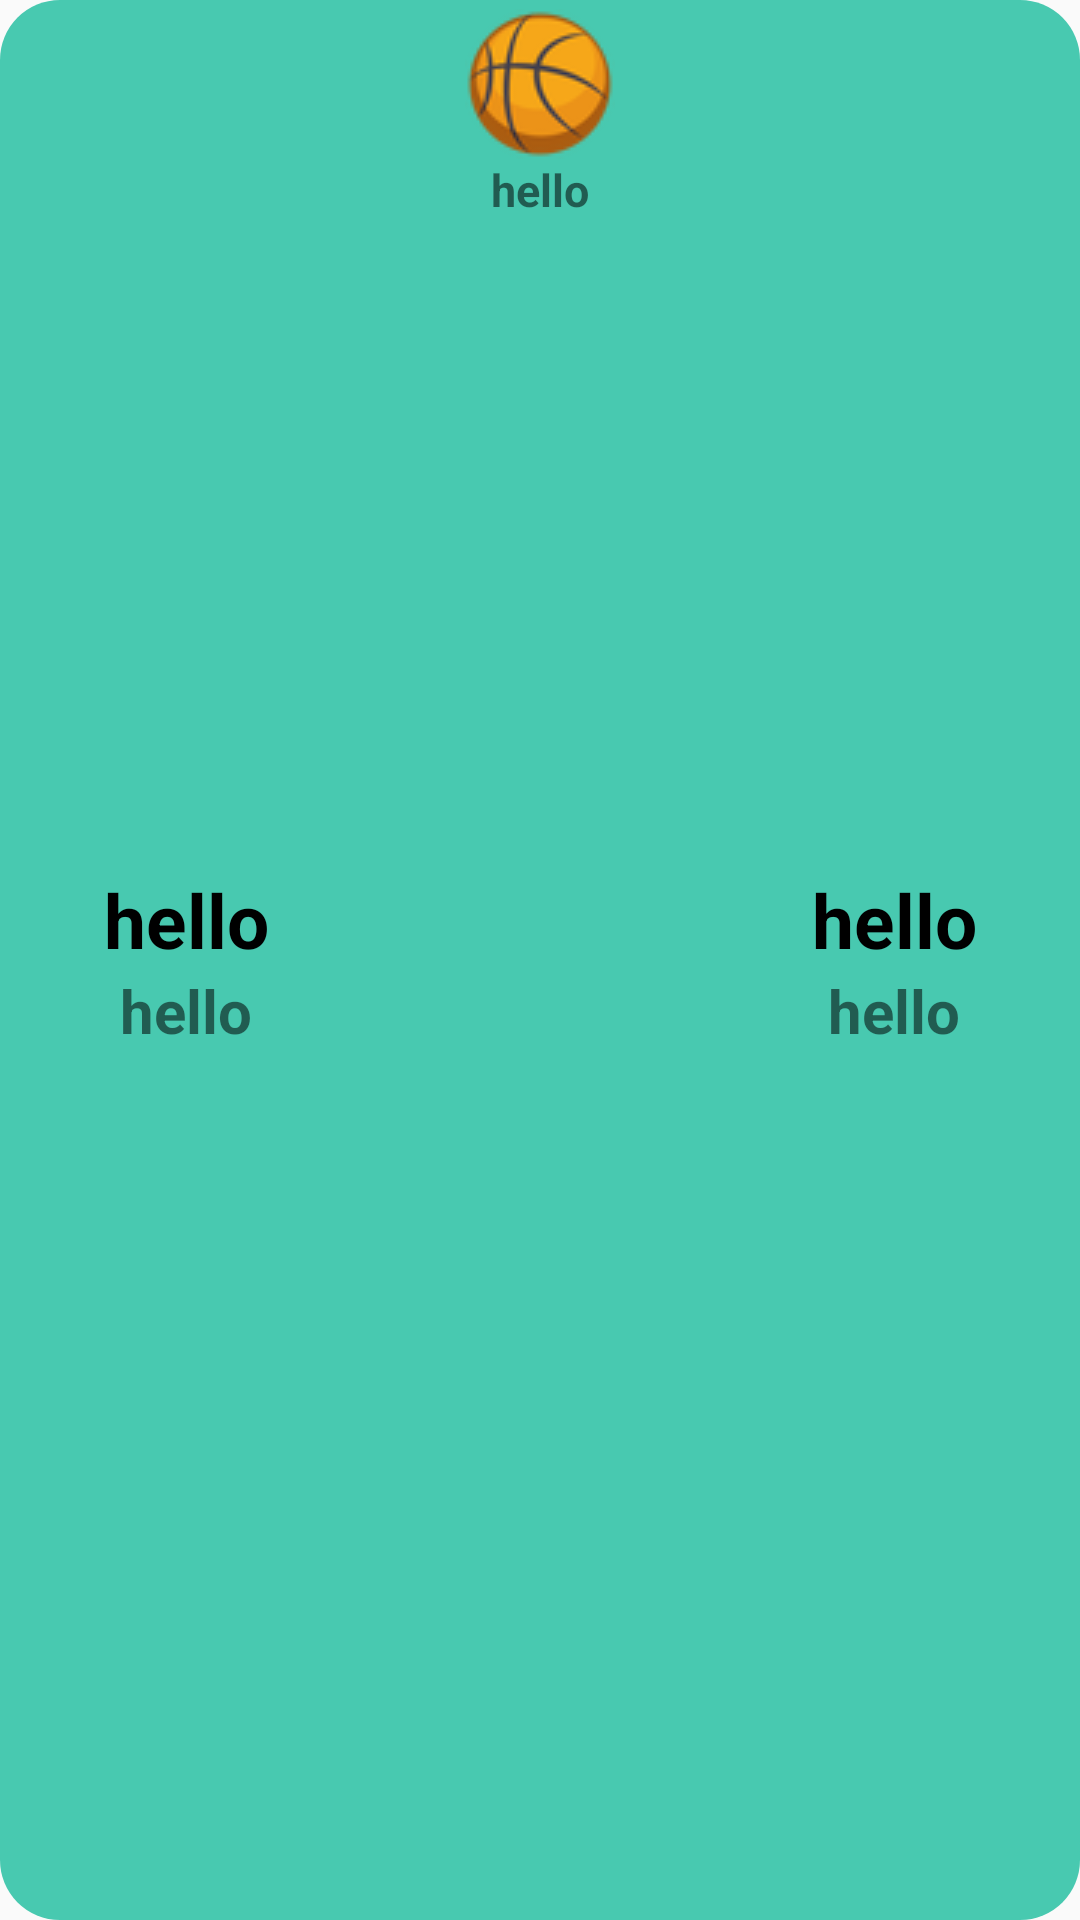

Icons on this 1080px×1920px Android screen, each with its box as box(x1, y1, x2, y2):
rsz ball: box(468, 12, 612, 156)
